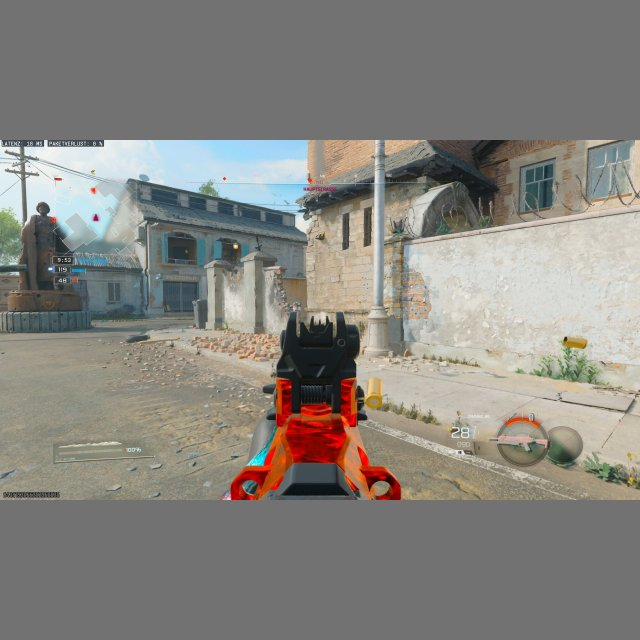head: (36, 202, 50, 216)
